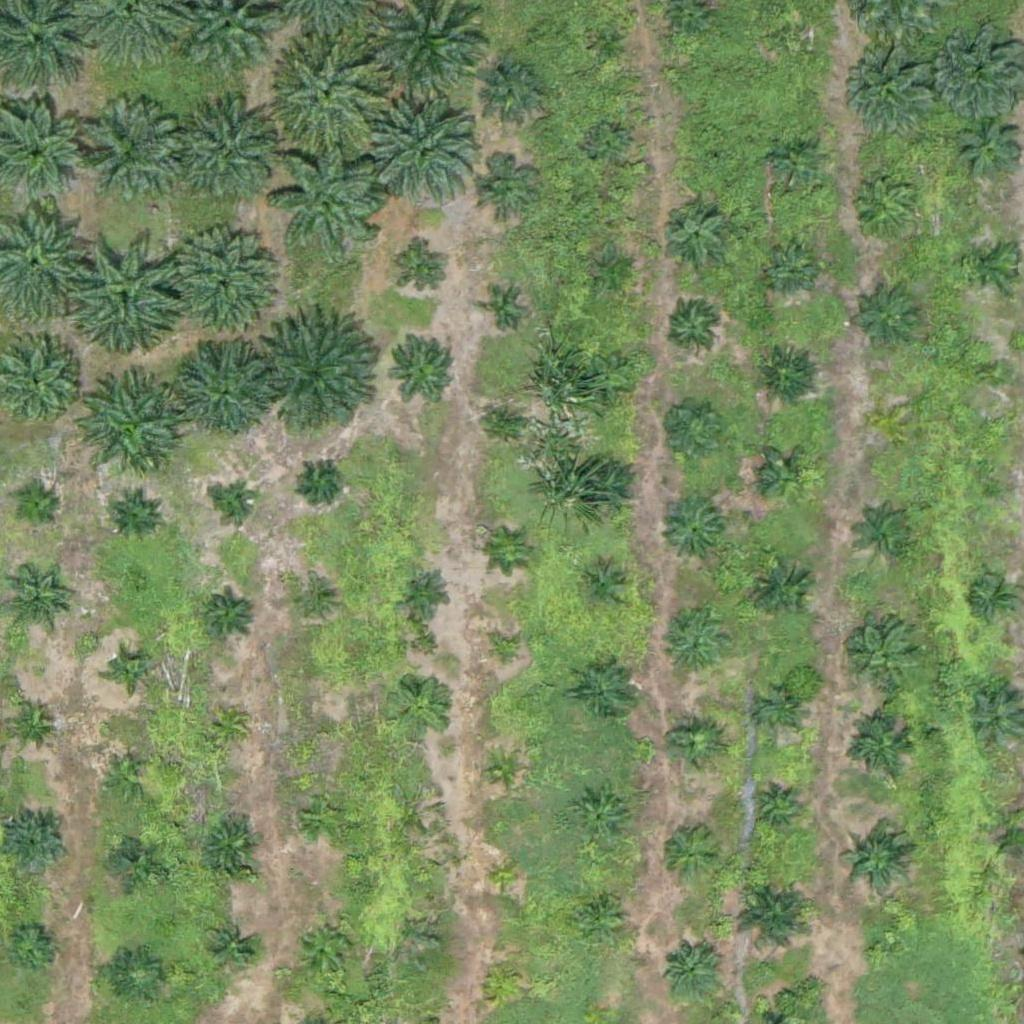Kelapa_Sawit: (65, 233, 190, 359), (261, 314, 386, 439), (273, 141, 386, 254), (162, 227, 275, 340), (370, 101, 482, 214), (274, 36, 386, 149), (71, 377, 183, 490), (172, 338, 272, 439), (178, 103, 278, 204), (77, 102, 177, 203), (850, 52, 937, 140), (731, 873, 818, 961), (839, 824, 914, 900), (653, 394, 728, 470), (385, 330, 460, 405), (657, 822, 720, 885), (662, 615, 725, 678), (660, 939, 723, 1002), (3, 575, 66, 638), (575, 658, 638, 721), (5, 811, 68, 874), (571, 788, 634, 851), (576, 458, 639, 521), (472, 157, 535, 220), (482, 59, 545, 122), (856, 287, 919, 350), (755, 342, 818, 405), (765, 132, 828, 195), (661, 499, 723, 562), (751, 559, 813, 622), (851, 716, 913, 779), (853, 626, 916, 688), (859, 504, 921, 567), (200, 815, 262, 878), (294, 916, 356, 979), (662, 201, 724, 264), (958, 114, 1020, 177), (856, 177, 918, 240), (390, 676, 452, 739), (112, 950, 162, 1001), (580, 562, 630, 613), (110, 832, 160, 883), (399, 247, 449, 298), (964, 237, 1014, 288), (587, 356, 637, 407), (6, 697, 56, 748), (7, 921, 57, 972), (205, 921, 255, 972), (669, 721, 719, 771), (761, 451, 811, 501), (968, 572, 1018, 622), (110, 490, 160, 540), (204, 588, 254, 638), (574, 889, 624, 939), (669, 303, 719, 353), (763, 244, 813, 294), (400, 567, 450, 617), (300, 792, 350, 842), (103, 752, 153, 802), (11, 485, 61, 535), (750, 782, 799, 833), (494, 532, 532, 570), (301, 460, 339, 498), (587, 123, 625, 161), (591, 25, 629, 63), (594, 249, 632, 287), (487, 633, 525, 671), (485, 752, 523, 790), (487, 859, 525, 897), (483, 959, 521, 997), (209, 706, 247, 744), (112, 651, 150, 689), (218, 486, 255, 524), (777, 19, 815, 56), (760, 691, 797, 729), (295, 584, 332, 622), (307, 713, 344, 751), (485, 294, 522, 331), (489, 404, 526, 441), (982, 474, 1007, 499), (982, 358, 1007, 383), (877, 412, 902, 437), (867, 939, 892, 964), (704, 149, 729, 174)
